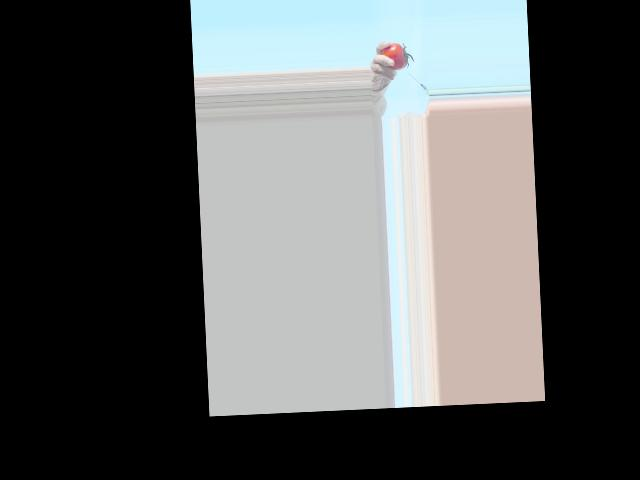tomato: (379, 41, 408, 70)
